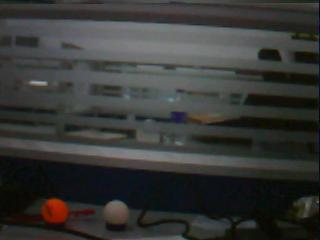oball: (42, 198, 66, 223)
